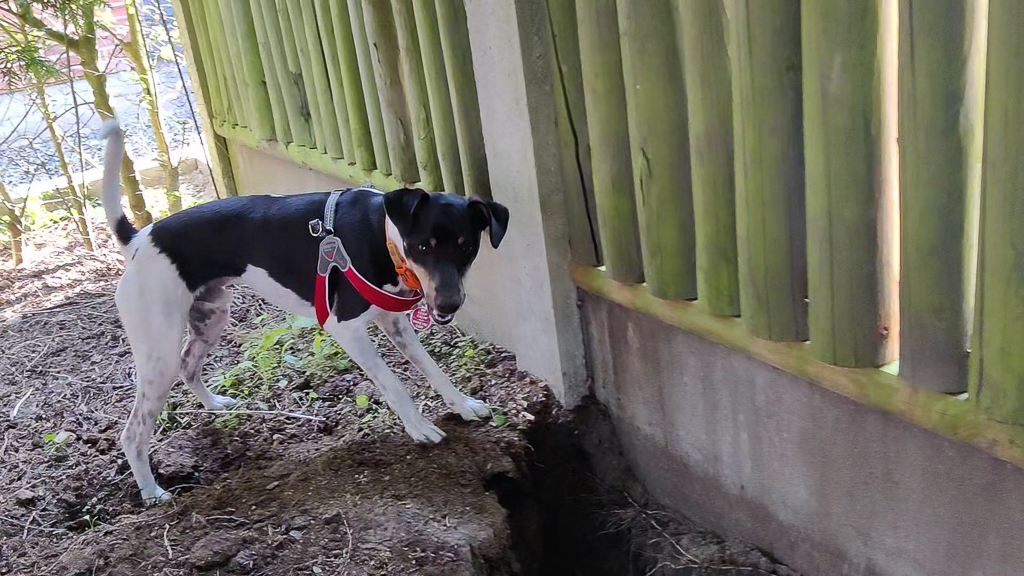Dog: (82, 105, 533, 526)
